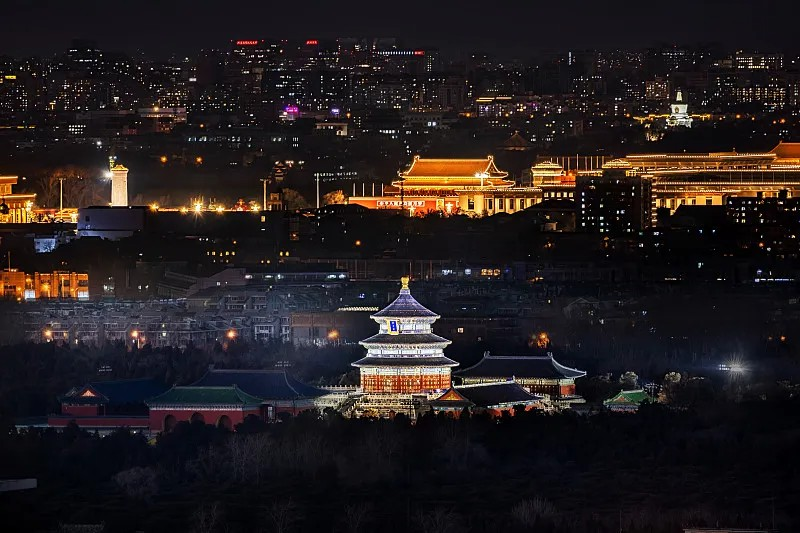Heaven: (351, 277, 460, 394)
